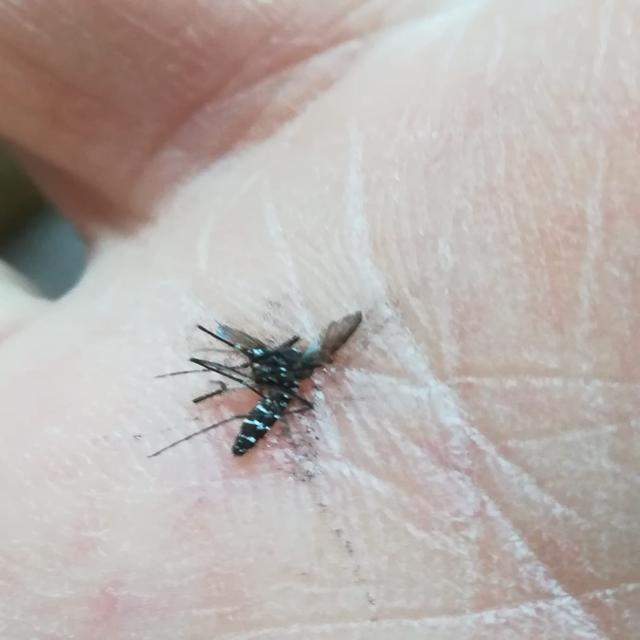albopictus: (132, 298, 379, 481)
